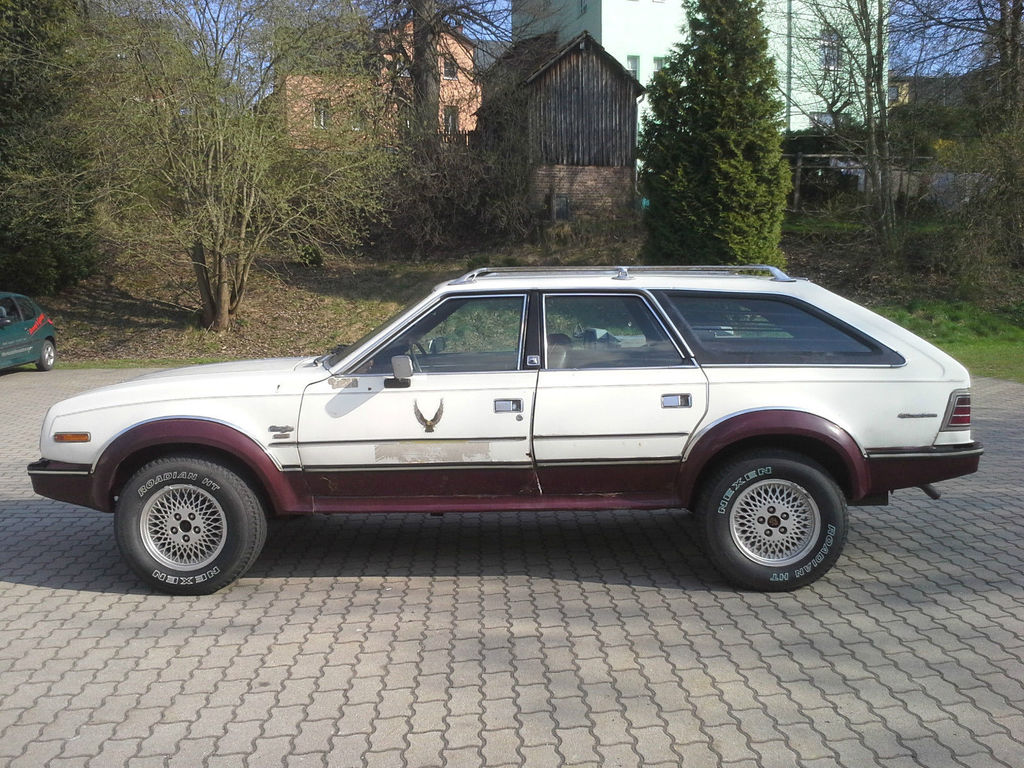Car: (24, 267, 981, 594), (0, 288, 56, 366)
